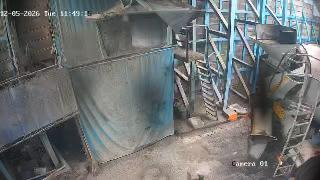cement_mixer_truck: (239, 34, 320, 180)
